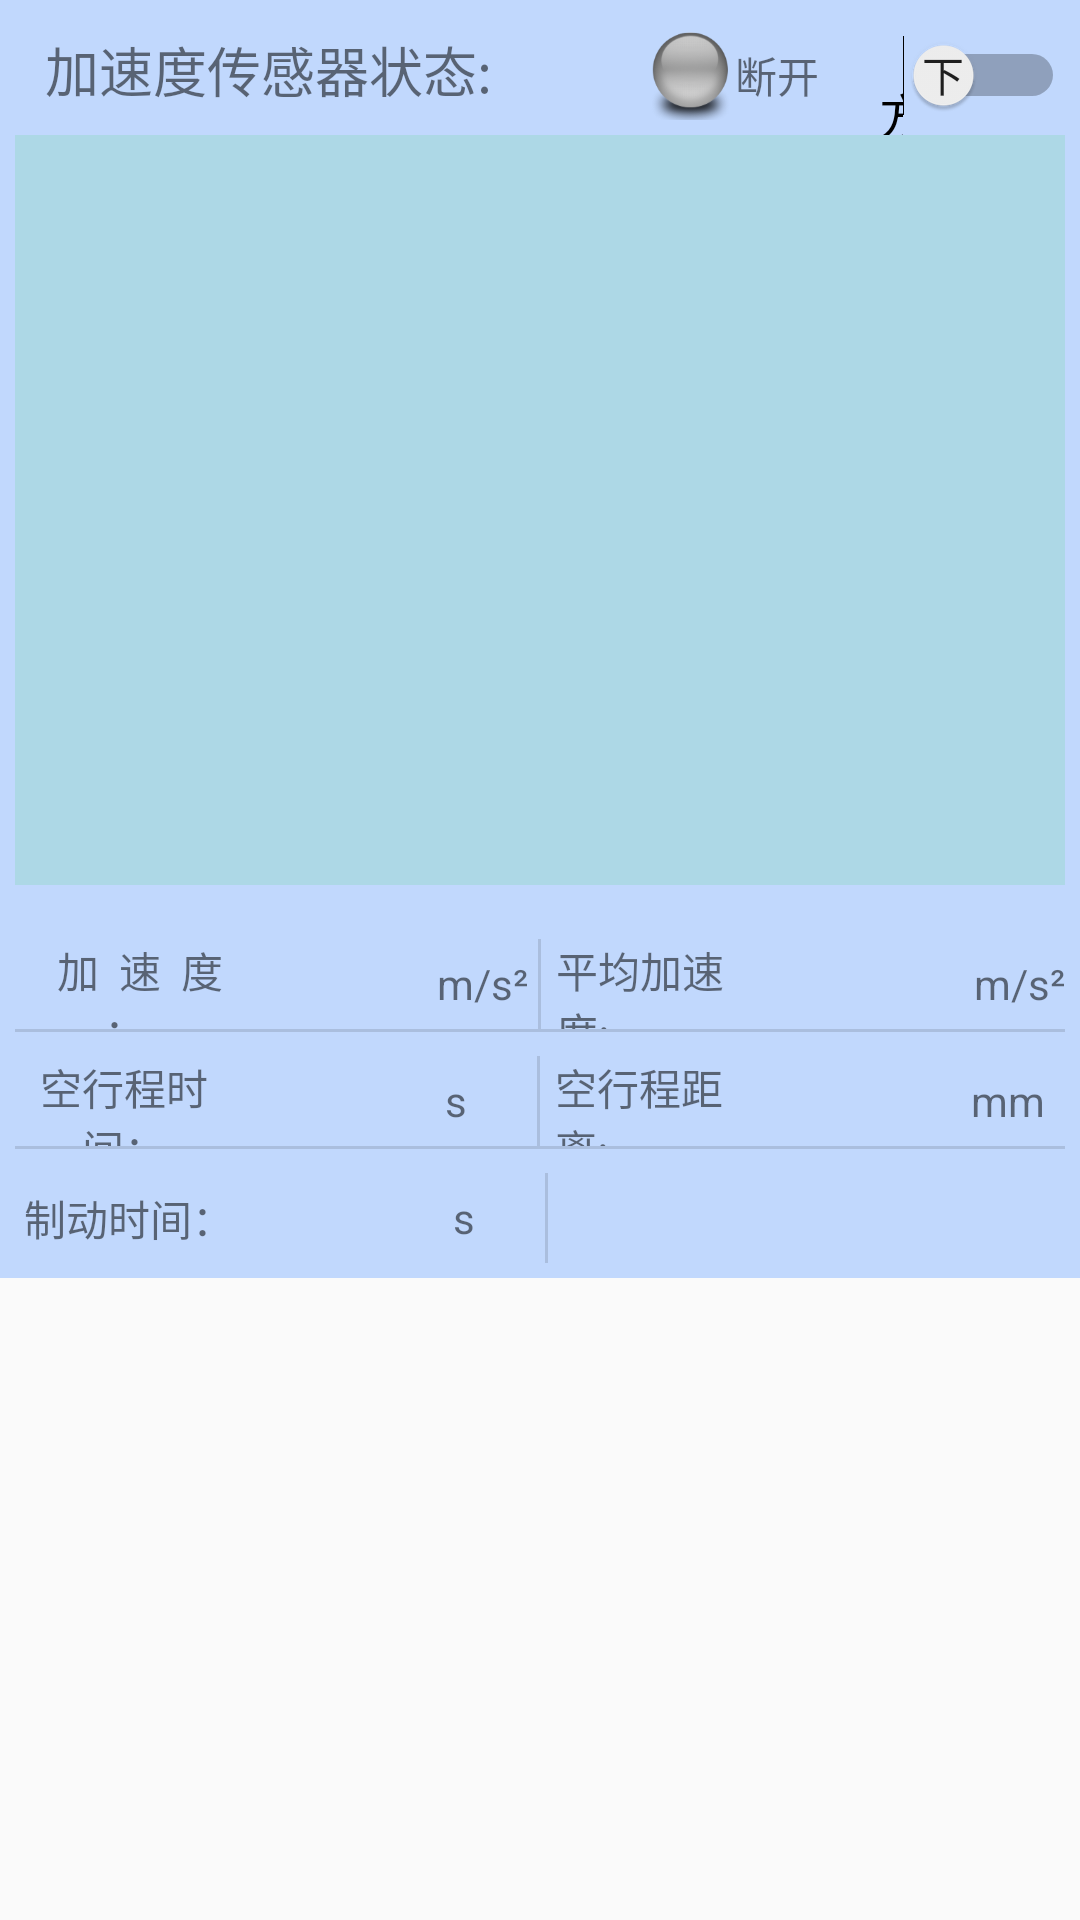

Icon click points for this 1080 x 1920 phone screenshot, format (x=x, y=y):
deng: (x=690, y=76)
